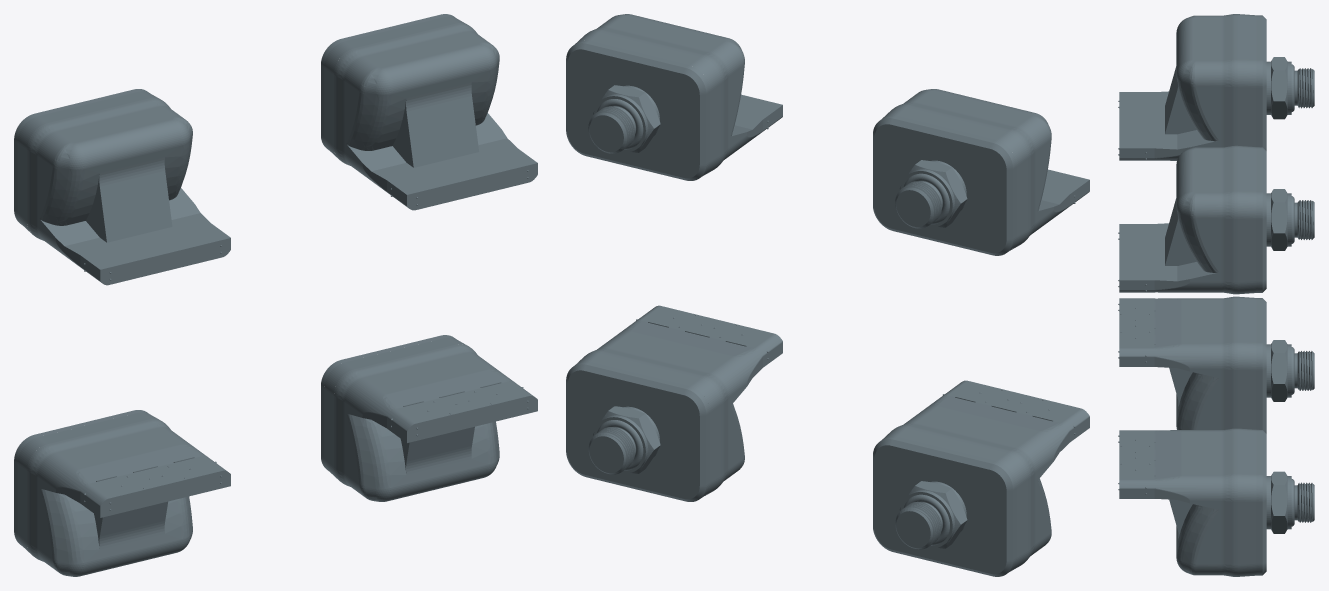
File: fixed-fingers.glb
3 views of the same model, side by side, from view 1: azimuth 30°, elevation 25°; view 2: azimuth 150°, elevation 25°; view 3: azimuth 270°, elevation 25° (orthographic). The views are drawn at different scales.
Visible parts, largest first — view 1: OEM_DAC_1, OEM_DAC_0, OEM_DAC_2, OEM_DAC_3; view 2: OEM_DAC_3, OEM_DAC_2, OEM_DAC_0, OEM_DAC_1; view 3: OEM_DAC_3, OEM_DAC_0, OEM_DAC_1, OEM_DAC_2.
Boxes of the visible parts, box(x1,y1,x2,y2) form: OEM_DAC_1: box(14, 89, 230, 285); OEM_DAC_0: box(321, 14, 537, 210); OEM_DAC_2: box(14, 410, 230, 576); OEM_DAC_3: box(321, 335, 537, 501); OEM_DAC_3: box(566, 305, 782, 501); OEM_DAC_2: box(873, 380, 1089, 576); OEM_DAC_0: box(566, 14, 782, 180); OEM_DAC_1: box(873, 89, 1089, 255); OEM_DAC_3: box(1118, 428, 1314, 576); OEM_DAC_0: box(1118, 145, 1314, 294); OEM_DAC_1: box(1118, 14, 1314, 160); OEM_DAC_2: box(1118, 296, 1314, 433).
Size of the model in its own units: 0.1098 by 0.1018 by 0.0472.
